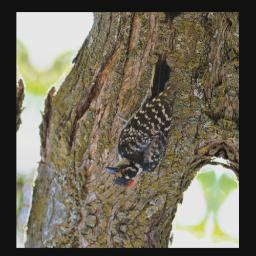Woodpecker: (103, 44, 179, 197)
